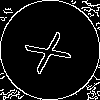X: (25, 25, 80, 75)
